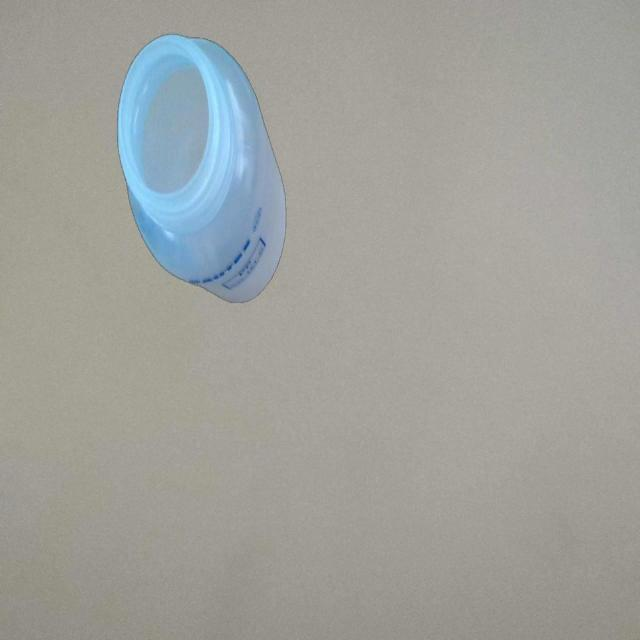bottle: (113, 28, 289, 312)
